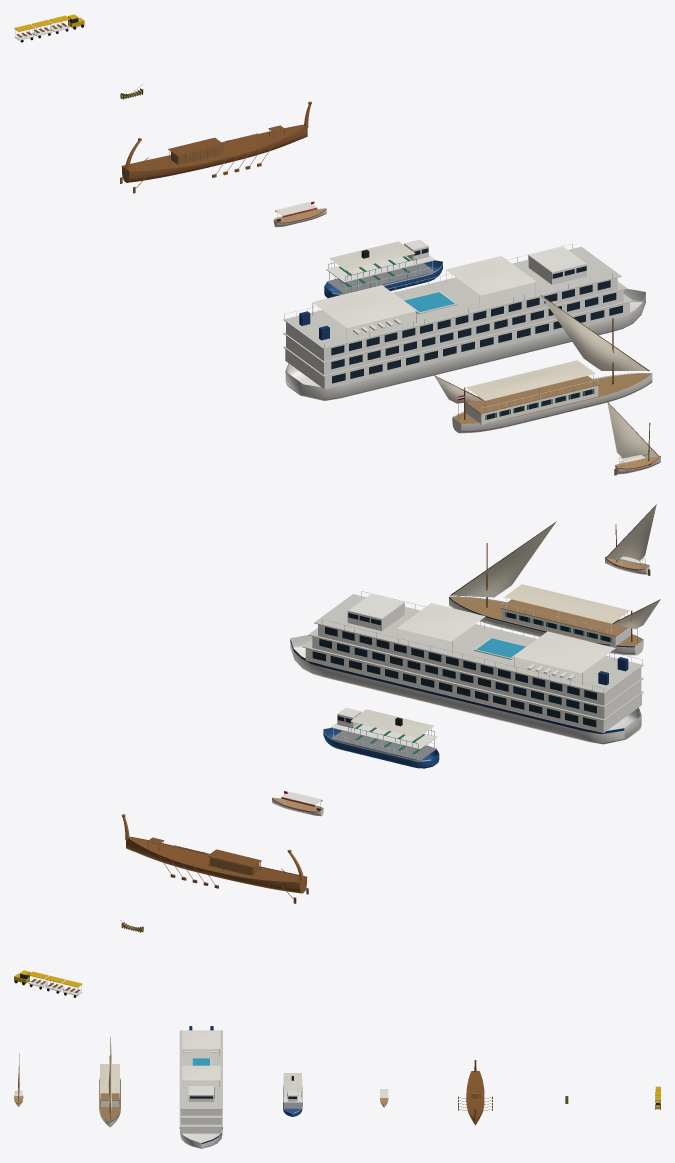
Rendered from boats.glb.
3 renders of one model, top to bottom at view 1: azimuth 30°, elevation 25°; view 2: azimuth 150°, elevation 25°; view 3: azimuth 270°, elevation 25°, orthographic. The views are drawn at different scales.
Visible parts, largest first — view 1: cruiser, dahabiya, khufu, ferry, felucca, taftaf, launch; view 2: cruiser, dahabiya, ferry, khufu, felucca, taftaf, launch; view 3: cruiser, dahabiya, khufu, ferry.
Boxes of the visible parts, x1,y1,x2,y2 form: cruiser: [283, 243, 645, 400]; dahabiya: [434, 295, 652, 433]; khufu: [120, 101, 311, 193]; ferry: [324, 239, 442, 297]; felucca: [607, 401, 660, 475]; taftaf: [14, 14, 84, 42]; launch: [273, 201, 326, 227]; cruiser: [290, 591, 643, 744]; dahabiya: [449, 521, 660, 655]; ferry: [323, 707, 439, 768]; khufu: [121, 814, 308, 903]; felucca: [605, 504, 656, 575]; taftaf: [14, 970, 82, 997]; launch: [272, 791, 323, 816]; cruiser: [179, 1026, 222, 1148]; dahabiya: [99, 1037, 120, 1127]; khufu: [458, 1060, 492, 1125]; ferry: [283, 1073, 302, 1116].
Size of the model in its own units: 72 by 23.88 by 212.
